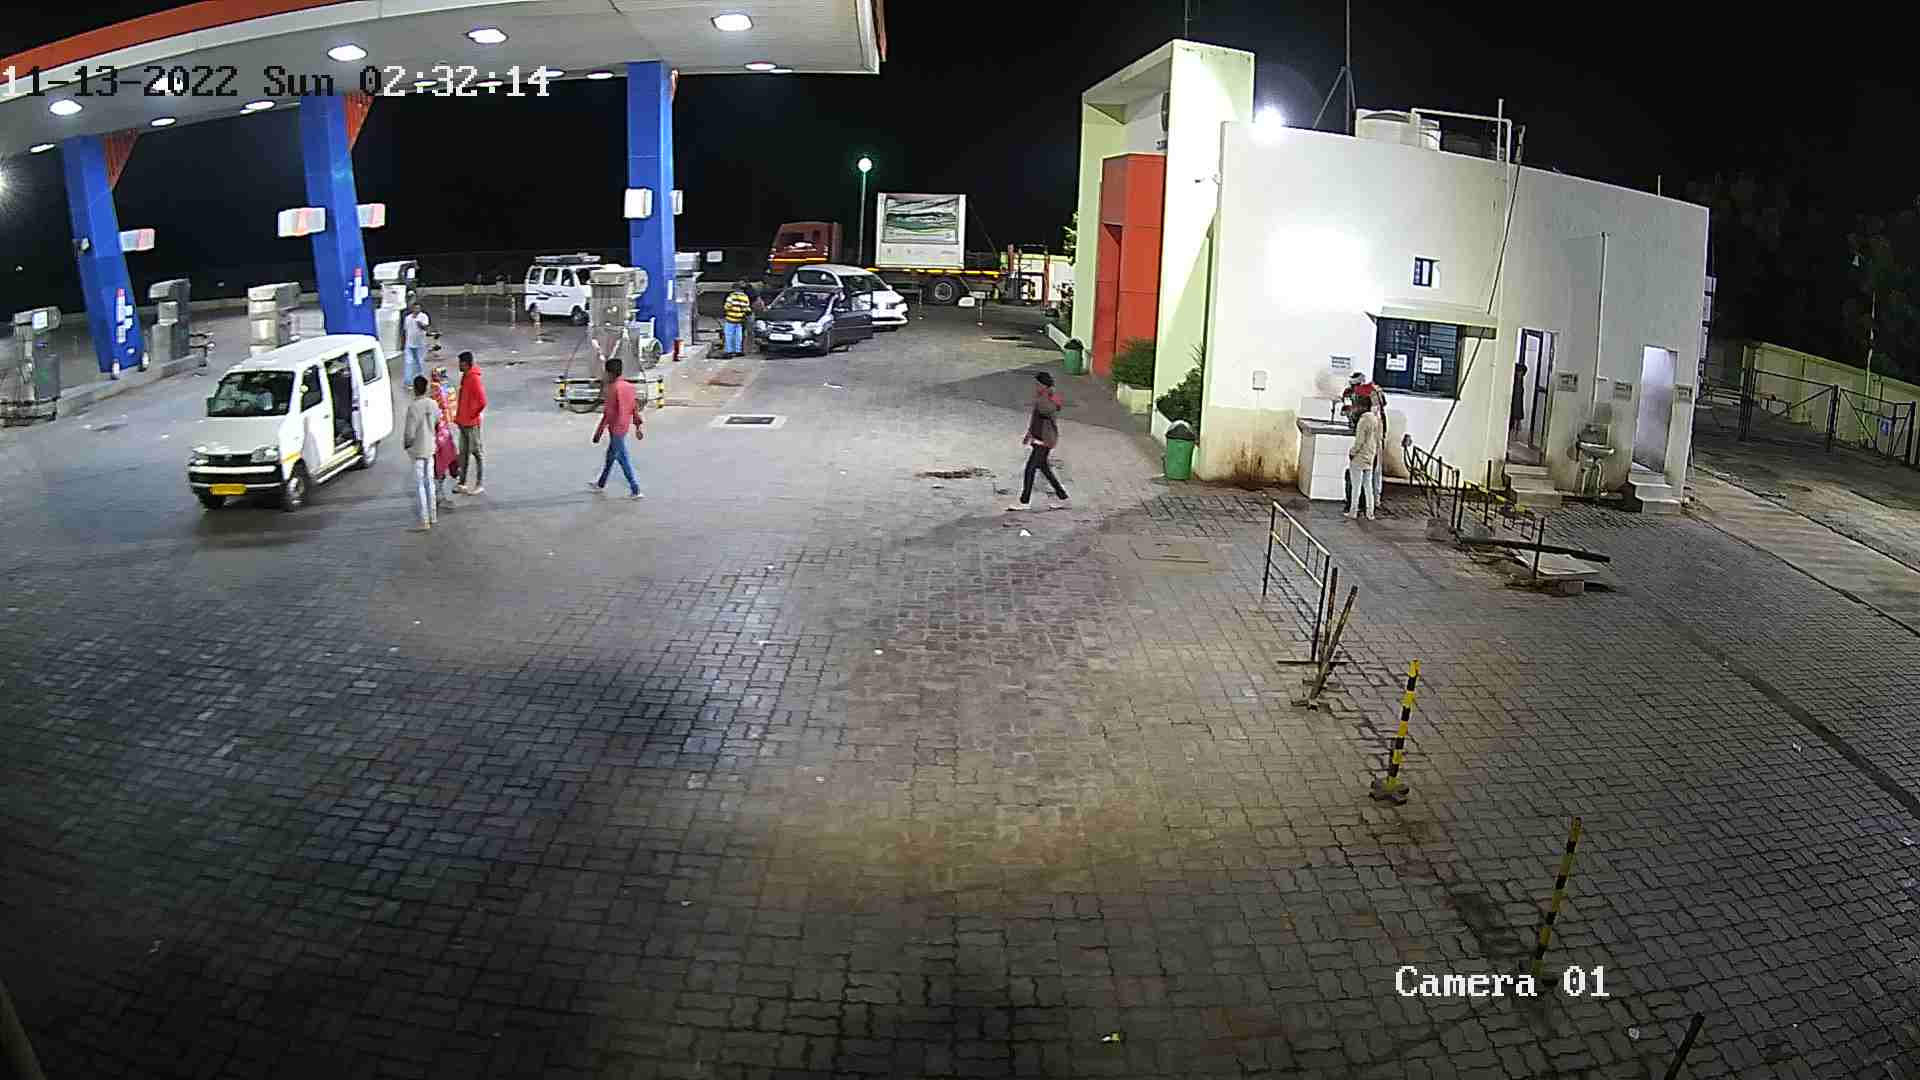Car: (179, 323, 404, 516), (744, 276, 878, 357), (785, 257, 910, 335), (518, 243, 622, 328)
HMV: (758, 189, 1048, 307)
